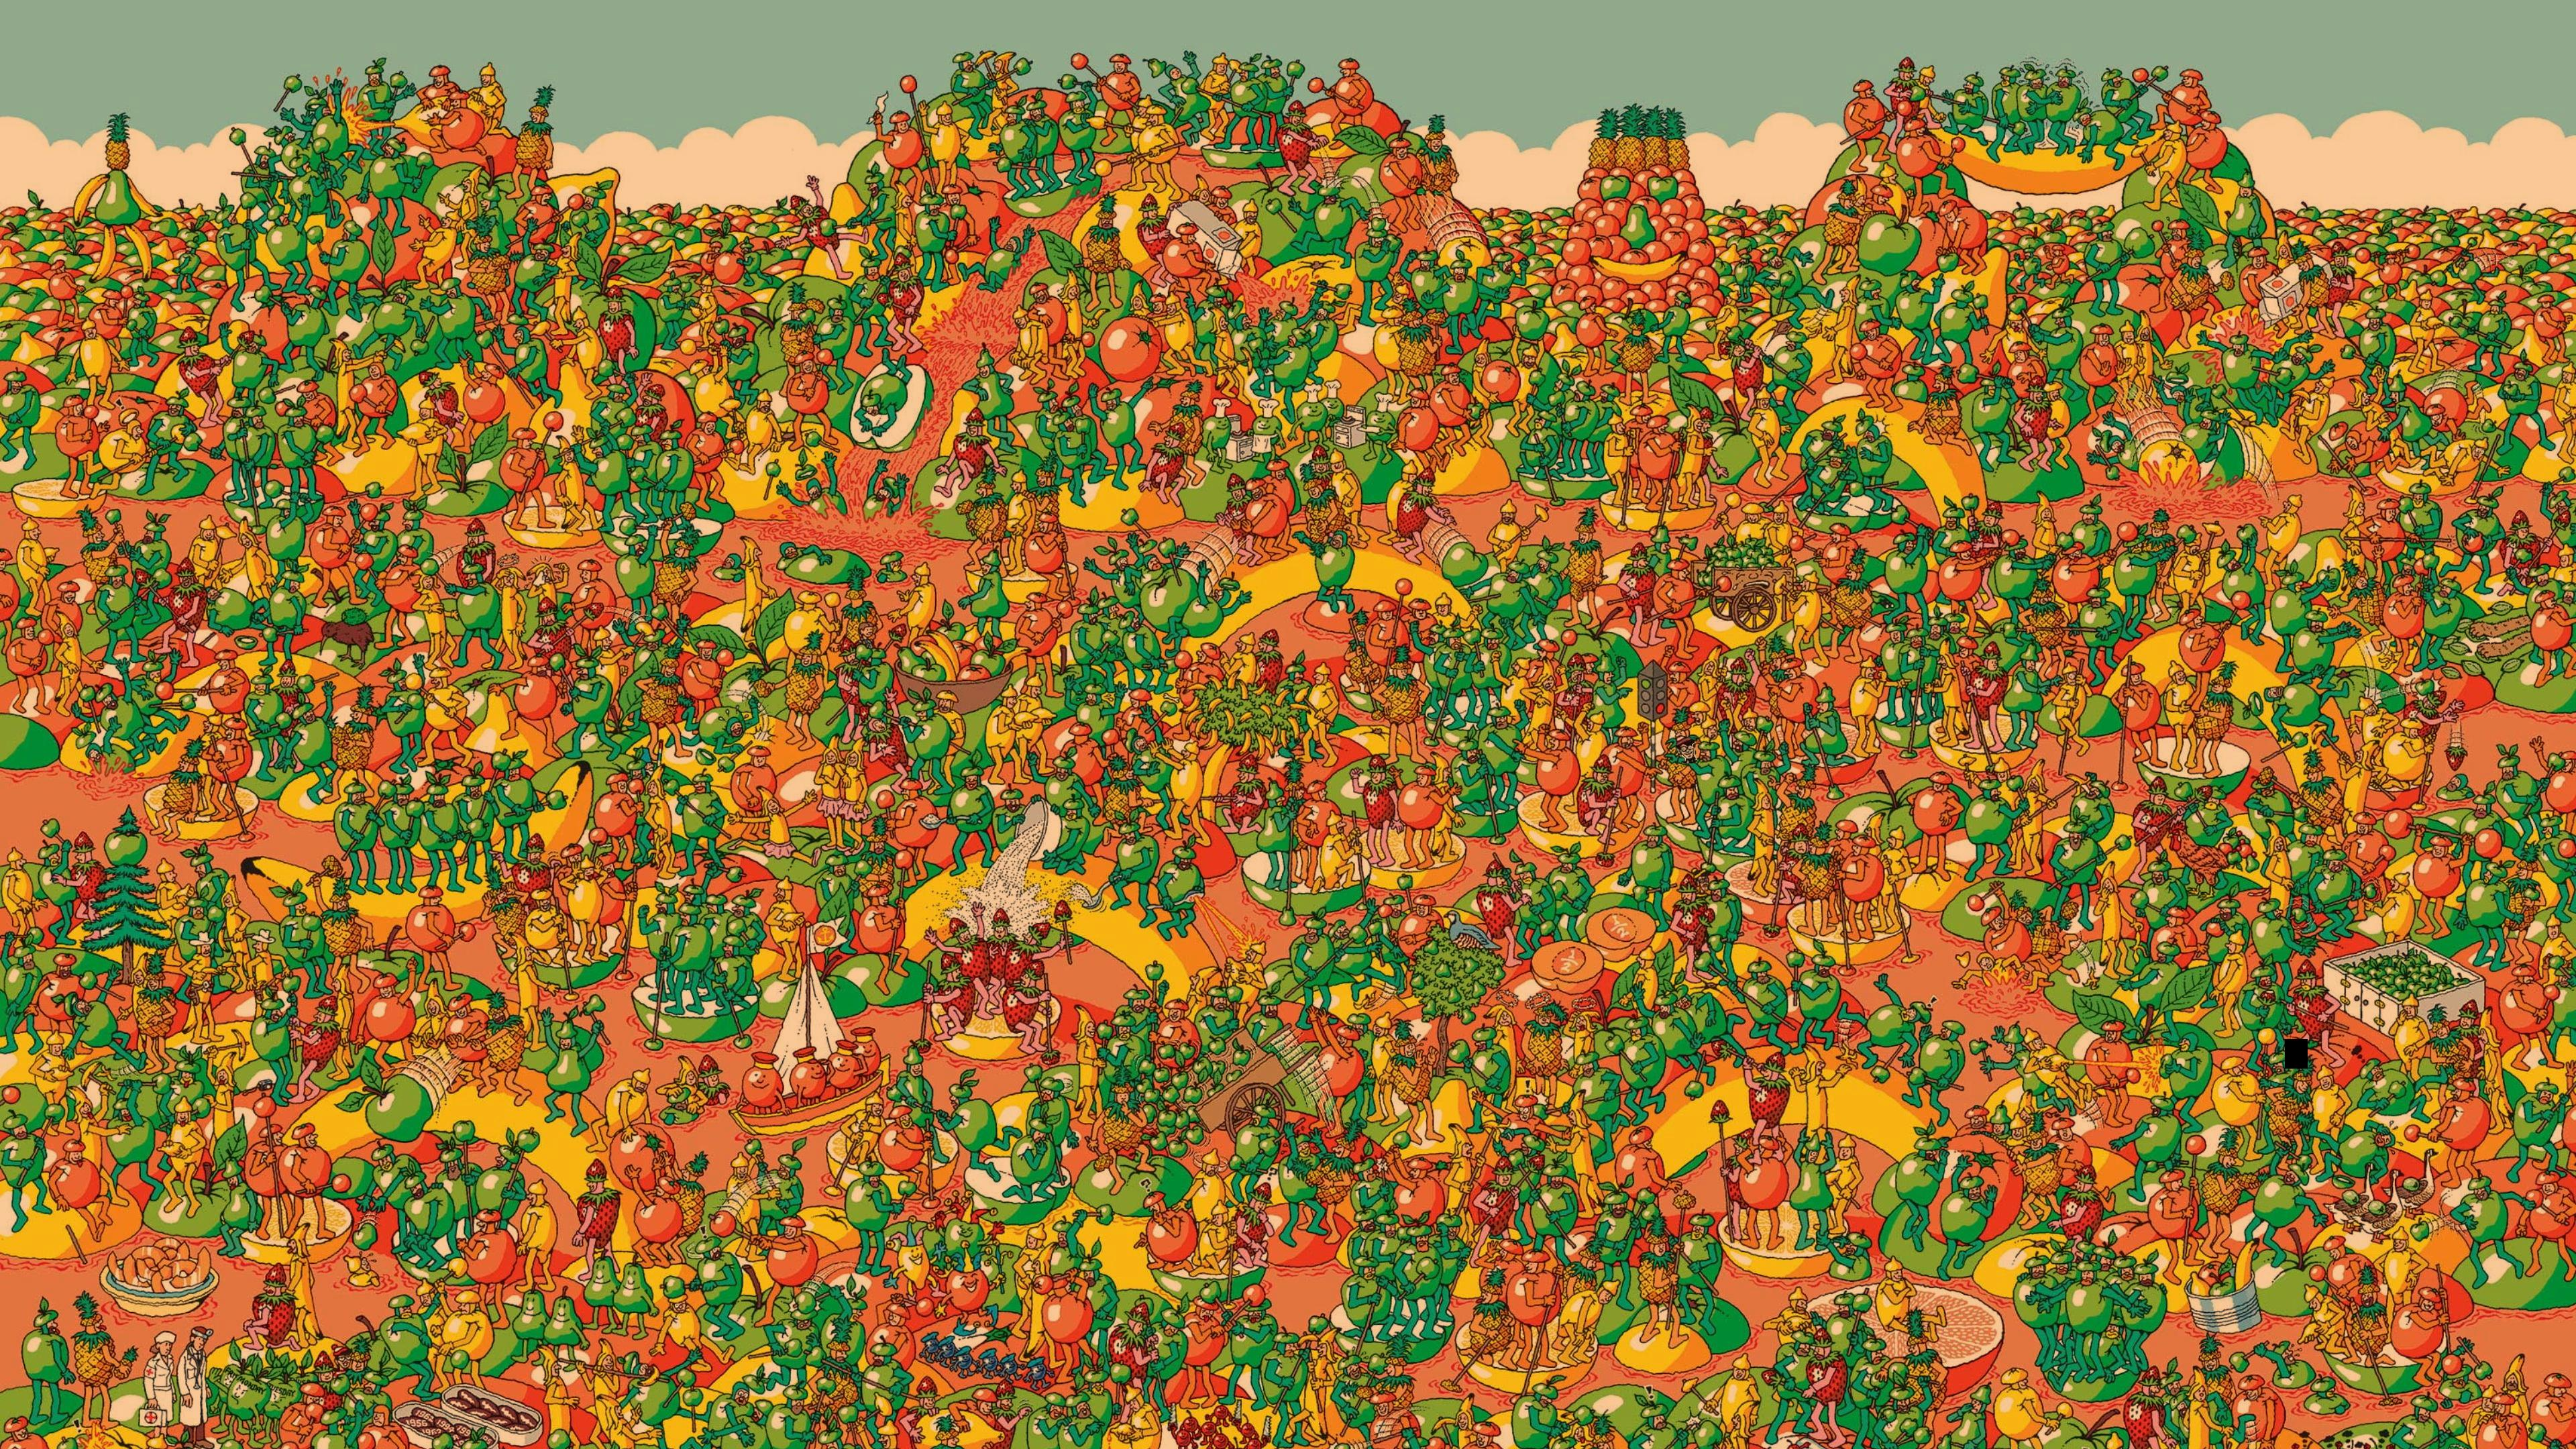waldos: (1674, 734, 1697, 763)
